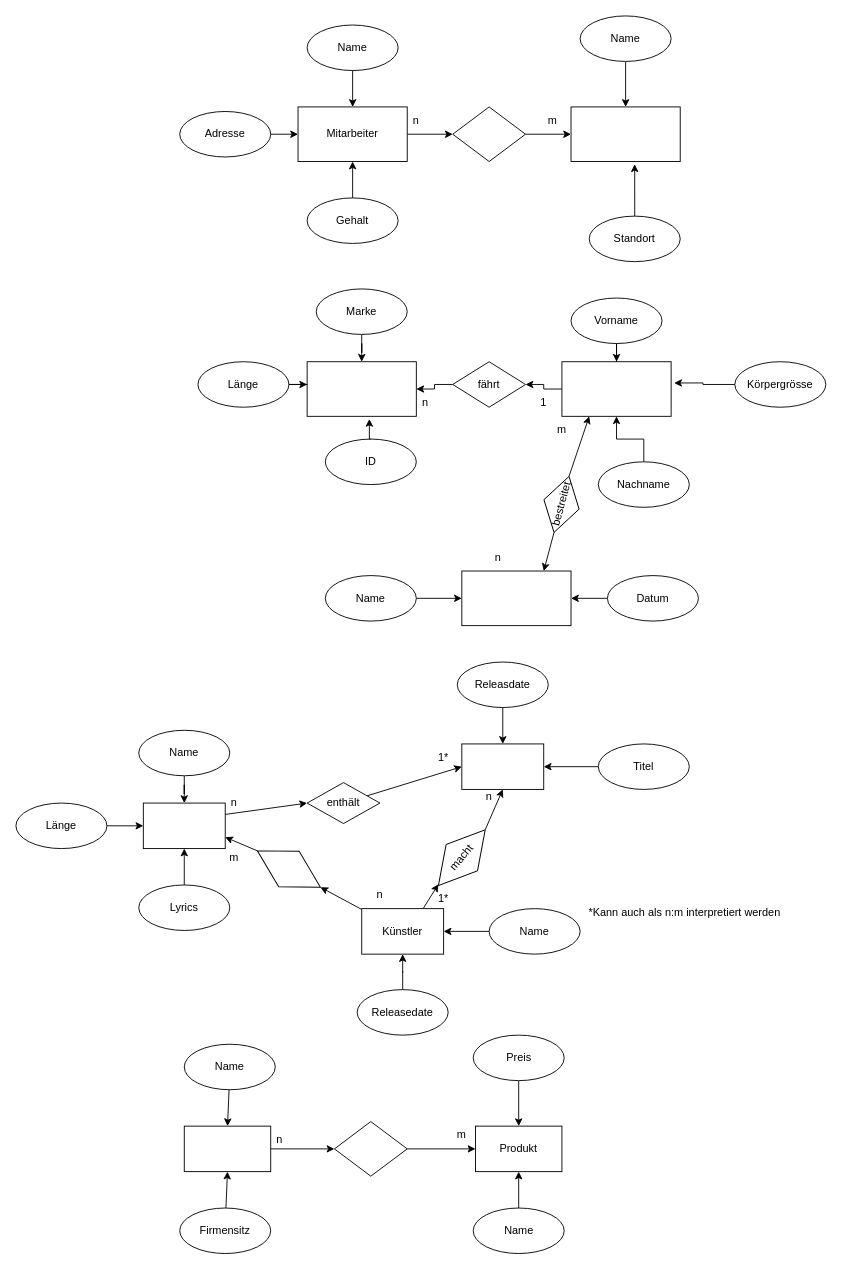
The diagram is 842 pixels wide and 1269 high, and some of its shapes have lost their labels. Each missing label, with the centre of its shape:
"Abteilung" belongs at pixel 625 134.
"Album" belongs at pixel 502 766.
"arbeitet in" belongs at pixel 489 134.
"Athlet:in" belongs at pixel 616 388.
"Lieferant" belongs at pixel 227 1148.
"Liefert" belongs at pixel 370 1148.
"Rennen" belongs at pixel 516 598.
"Ski" belongs at pixel 361 388.
"Song" belongs at pixel 183 825.
"spielt" belongs at pixel 288 868.
